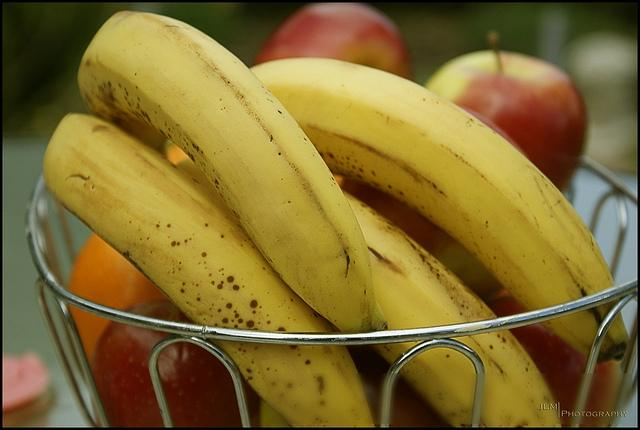apple: (342, 104, 532, 302), (424, 30, 588, 194), (90, 300, 260, 428), (486, 297, 620, 426), (250, 2, 416, 82), (360, 371, 450, 428)
banana: (246, 59, 630, 364), (42, 113, 374, 430), (176, 158, 562, 428), (78, 11, 390, 334)
